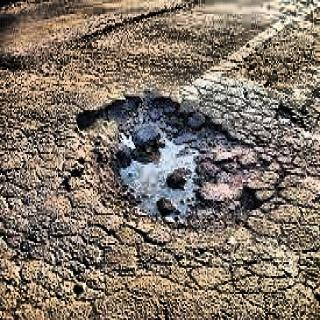alligator-crack: (86, 230, 316, 320), (0, 137, 105, 293), (198, 78, 308, 150)
pothole: (74, 89, 278, 230)
